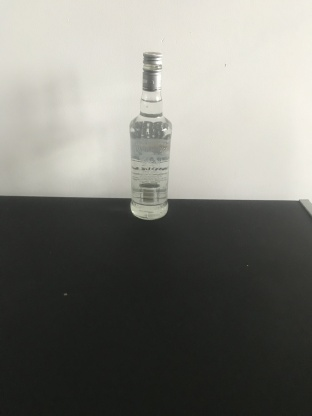nakretka: (140, 49, 164, 91)
